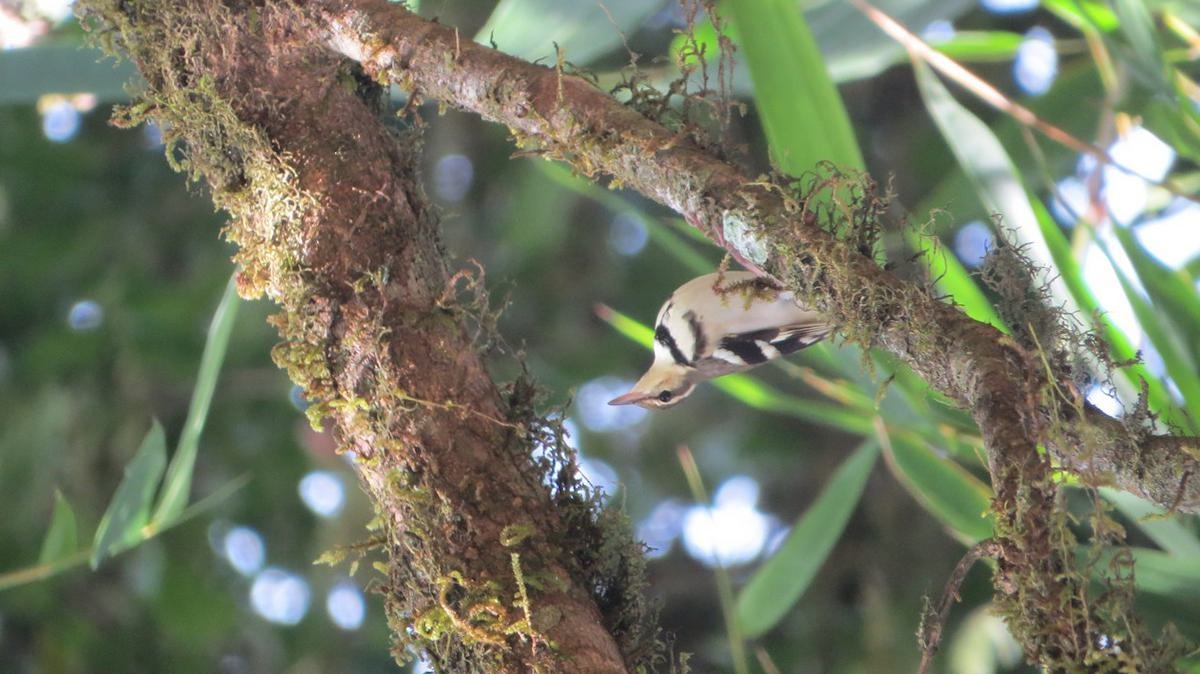wagtail: (629, 261, 843, 422)
